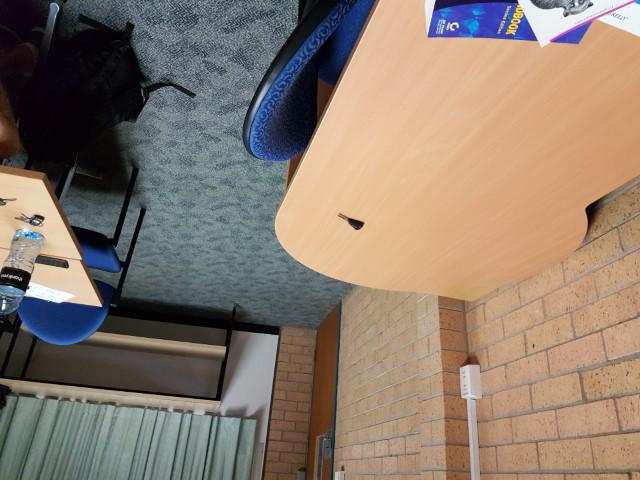key: (336, 210, 365, 233)
